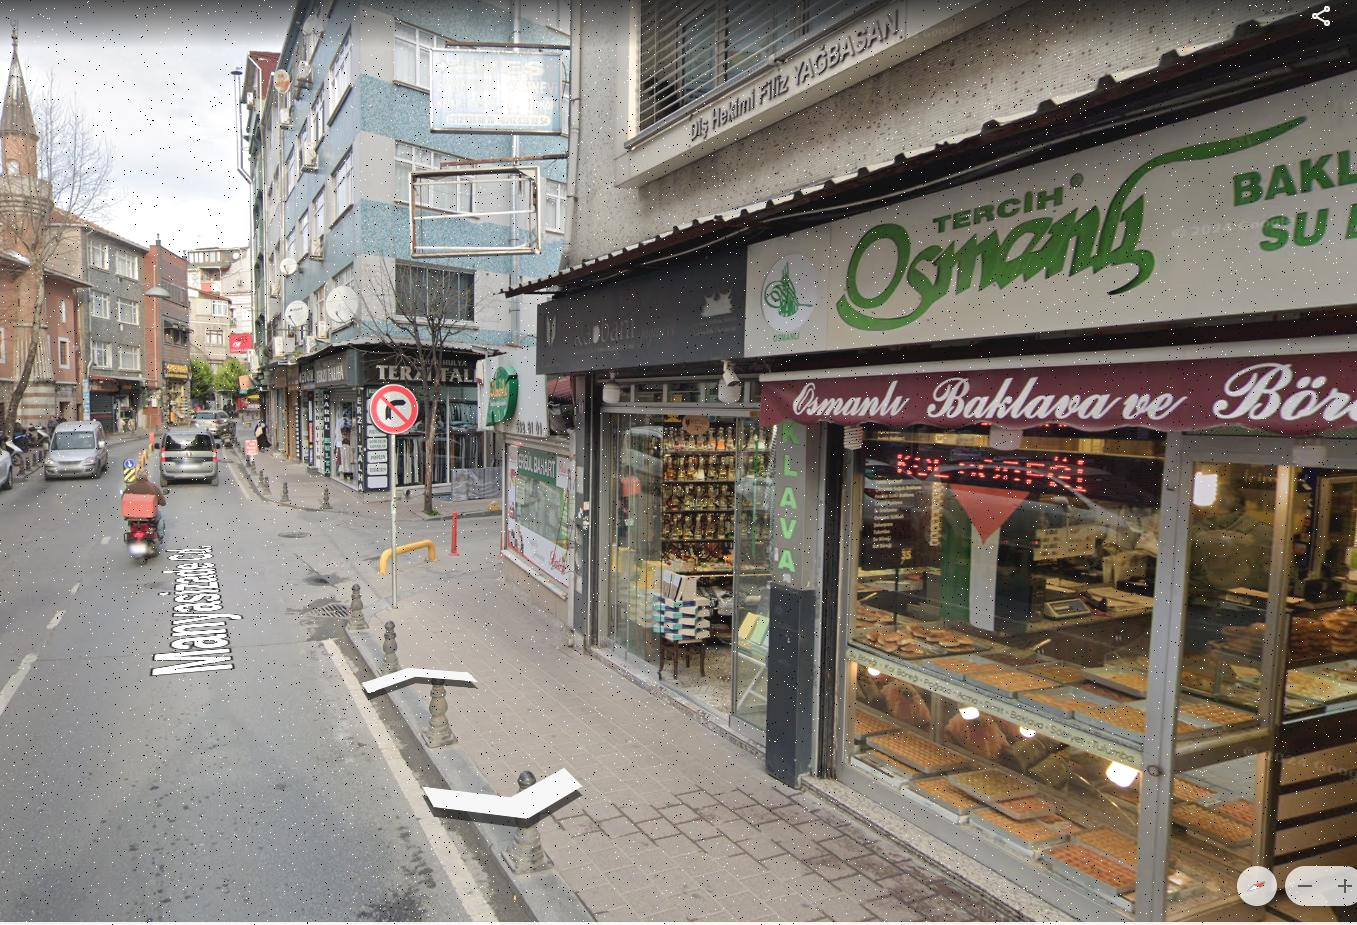rightturnsareforbidden: (368, 382, 420, 436)
